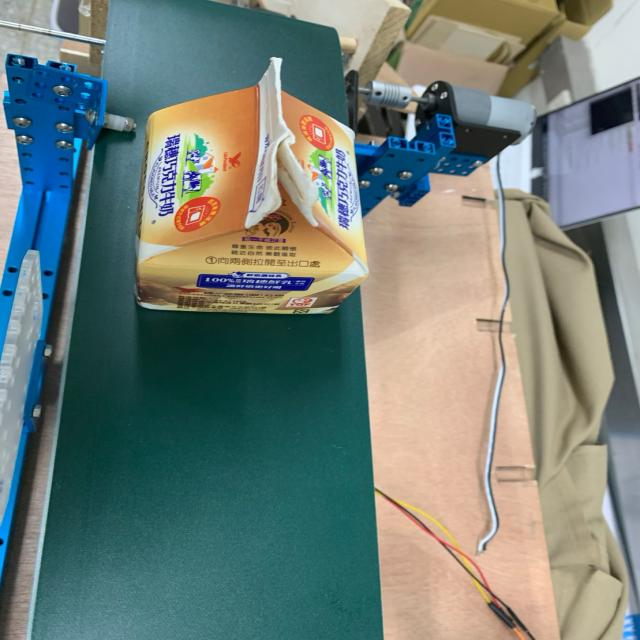non_white_jug: (120, 44, 378, 333)
